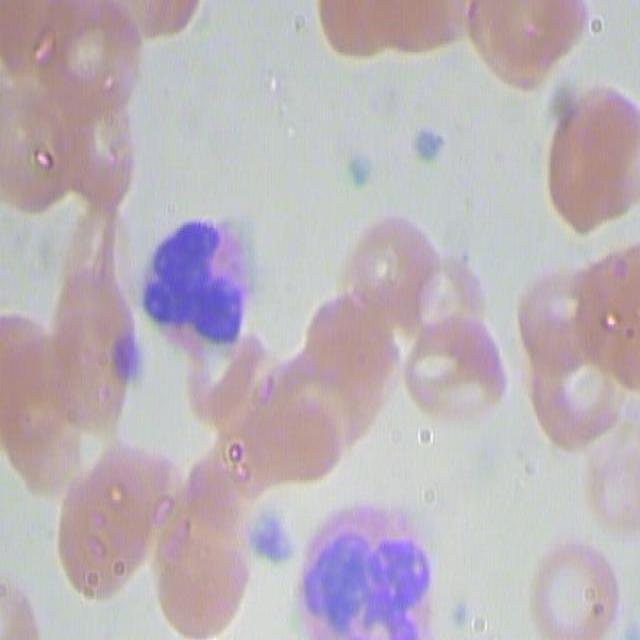RBC: (208, 327, 438, 482), (357, 213, 510, 445), (0, 0, 170, 208), (114, 429, 280, 625), (65, 401, 191, 601), (323, 0, 584, 96), (36, 225, 147, 446), (528, 65, 636, 236), (0, 294, 83, 498), (306, 291, 404, 432), (524, 264, 640, 374), (235, 351, 342, 470), (530, 366, 640, 481), (521, 537, 640, 640), (0, 545, 68, 640)
WBC: (299, 493, 452, 640), (151, 218, 262, 380)
platelets: (406, 119, 447, 171), (343, 150, 384, 195)
